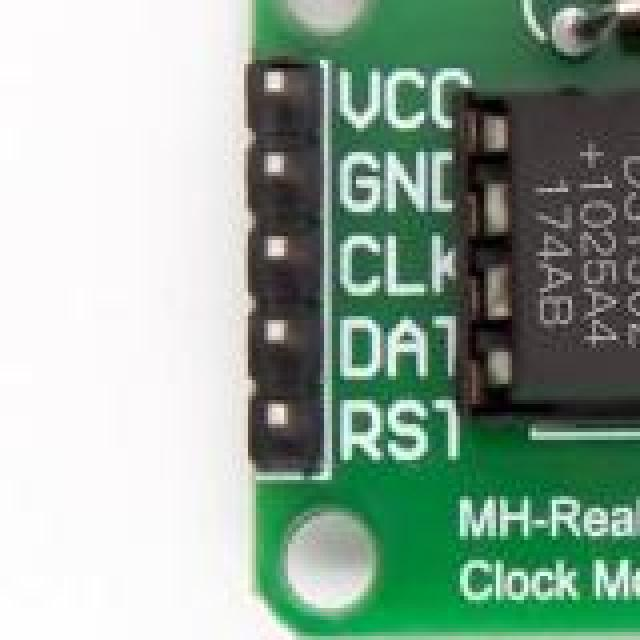IC: (420, 36, 640, 472)
clock: (500, 0, 640, 28)
connector: (216, 12, 352, 470)
